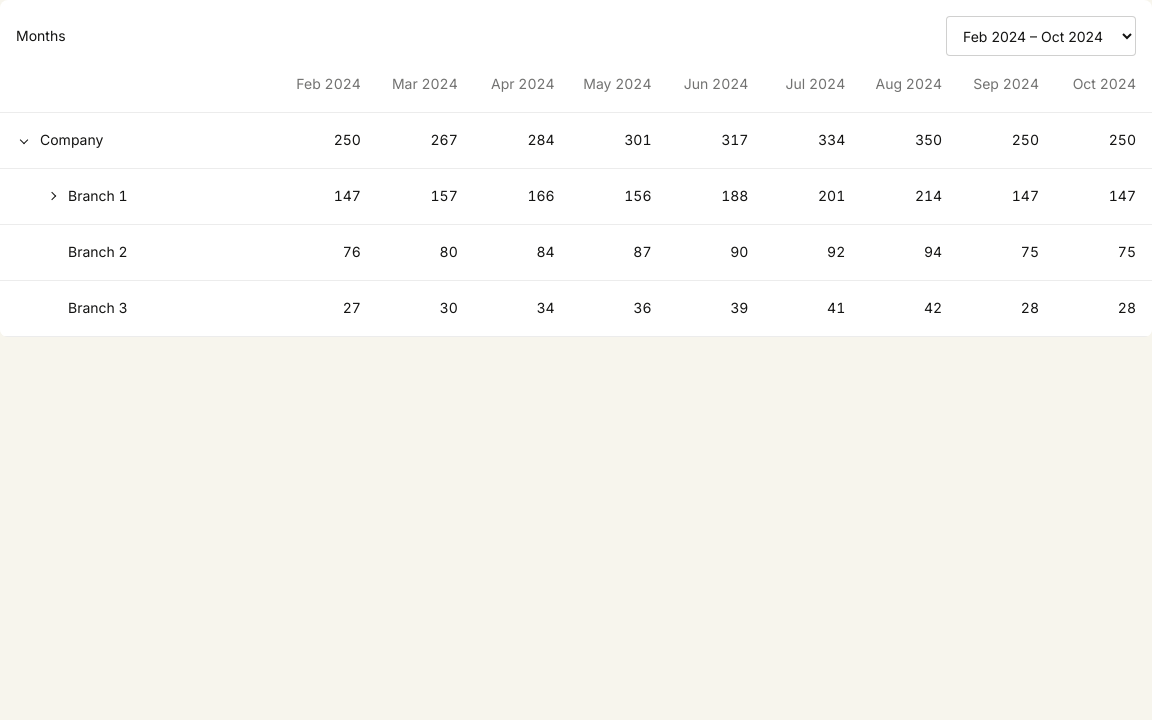
Test: HierarchyTable › exposes hierarchy depth, sibling position, size, and expansion state to assistive technology
Expected: the table named "Client breakdown by month" is shown, [0,56,1151,336]
Expected: the row named "Company, company, level 1; show in chart" is shown, [0,112,1151,168]
Click the button named "Expand Branch 1" at (52, 196), box [44,186,60,206]
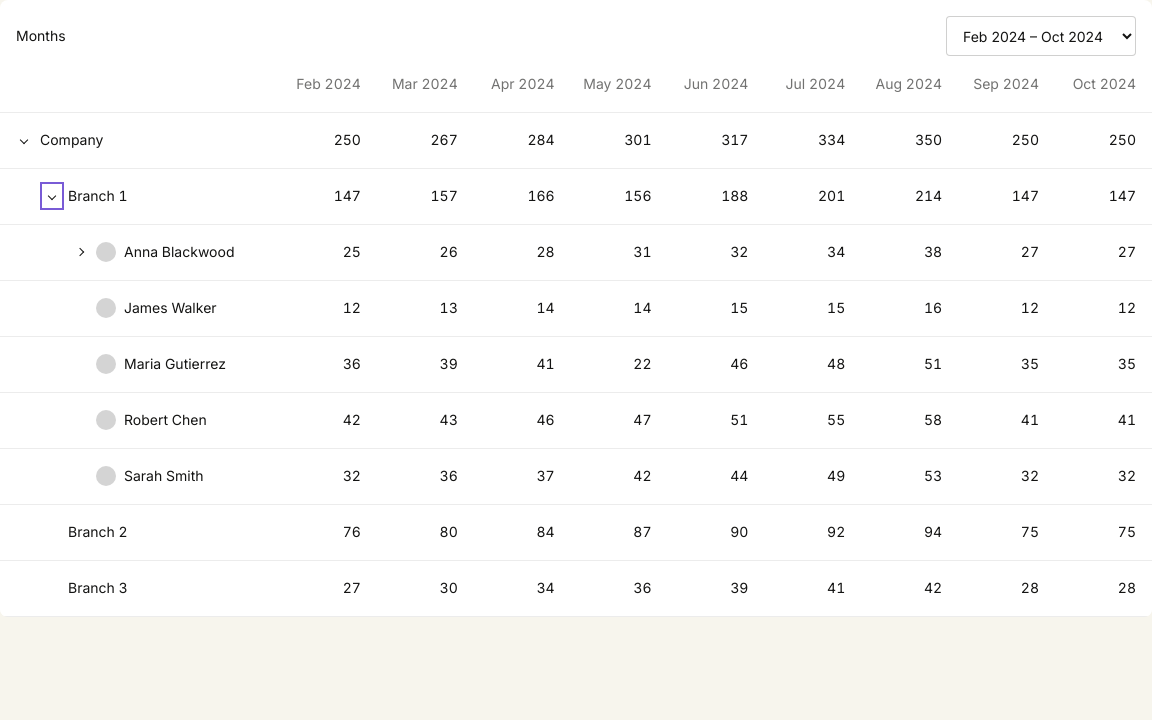
Expected: the row named "Branch 1, branch, level 2, child row; show in chart" is expanded, [0,168,1151,224]
Expected: the row named "Anna Blackwood, employee, level 3, child row; show in chart" is shown, [0,224,1151,280]
Click the button named "Expand Anna Blackwood" at (80, 252), box [72,242,88,262]
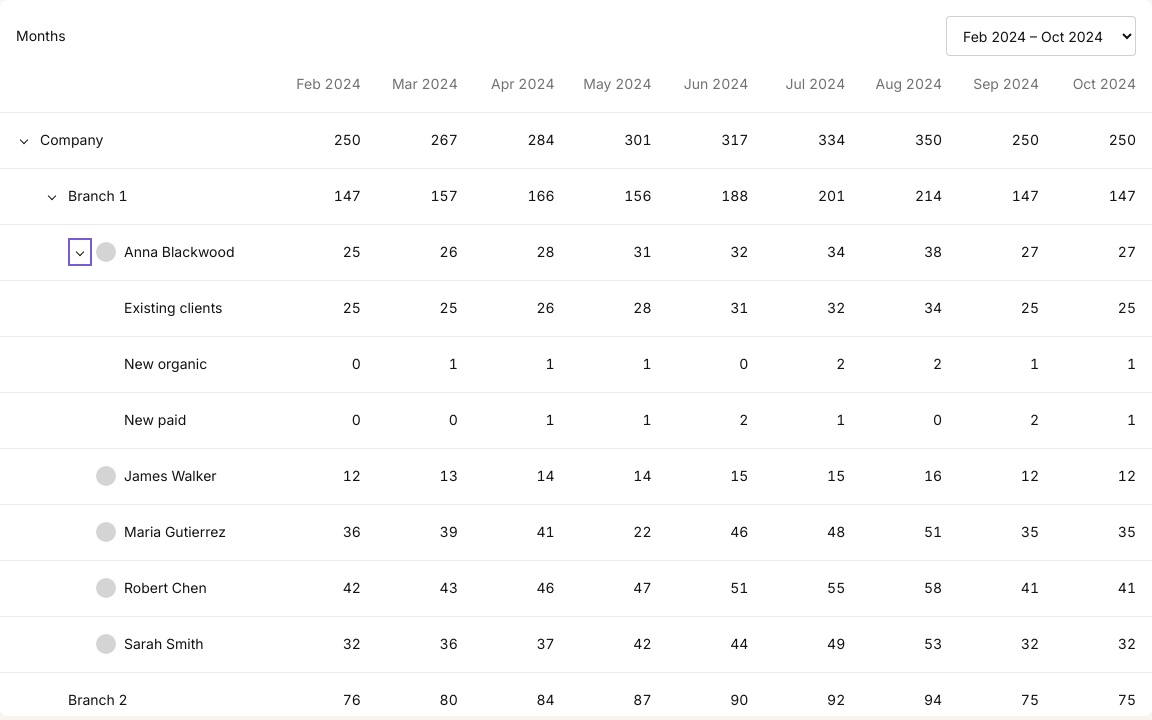
Expected: the row named "Anna Blackwood, employee, level 3, child row; show in chart" is expanded, [0,224,1151,280]
Expected: the row named "Existing clients, channel, level 4" is shown, [0,280,1151,336]
Expected: the row named "New organic, channel, level 4" is shown, [0,336,1151,392]
